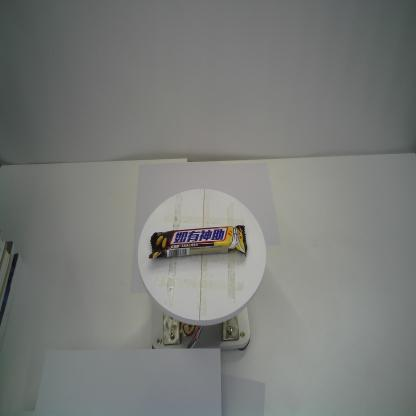Chocolate: (148, 224, 248, 260)
